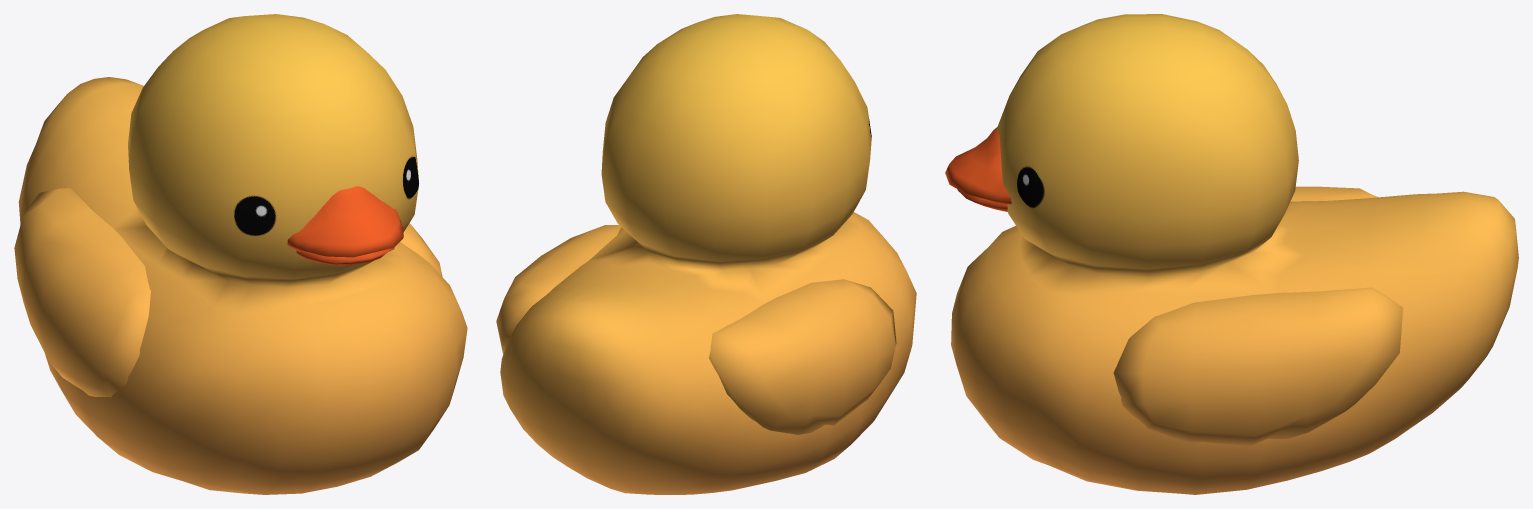
Rendered from rubber_duck.glb.
3 renders of one model, left to right at view 1: azimuth 30°, elevation 25°; view 2: azimuth 150°, elevation 25°; view 3: azimuth 270°, elevation 25°, orthographic. The views are drawn at different scales.
Parts seen in each view (by area): view 1: Yellow rubber duck; view 2: Yellow rubber duck; view 3: Yellow rubber duck.
Boxes of the visible parts, x1,y1,x2,y2 form: Yellow rubber duck: [14, 14, 467, 494]; Yellow rubber duck: [496, 14, 916, 494]; Yellow rubber duck: [945, 14, 1518, 494].
Bounding box in the file's own units: 1.06 × 1.24 × 1.52.
Materials: 1 (1 with a texture image).
